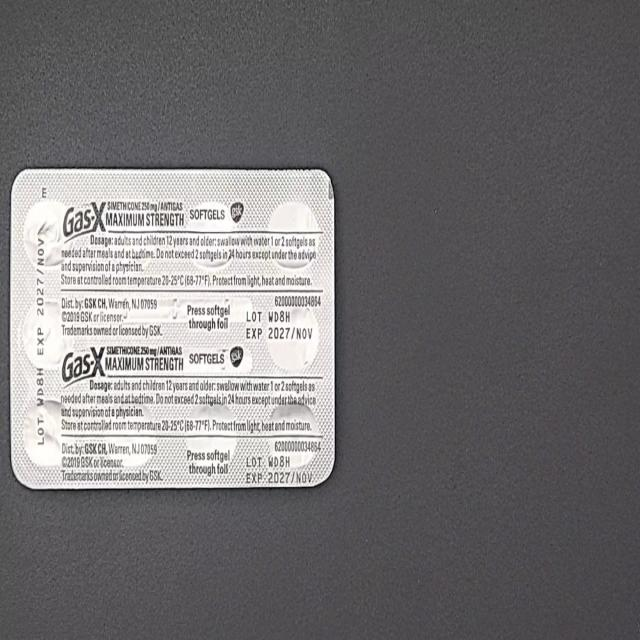no defect: (7, 15, 32, 52)
